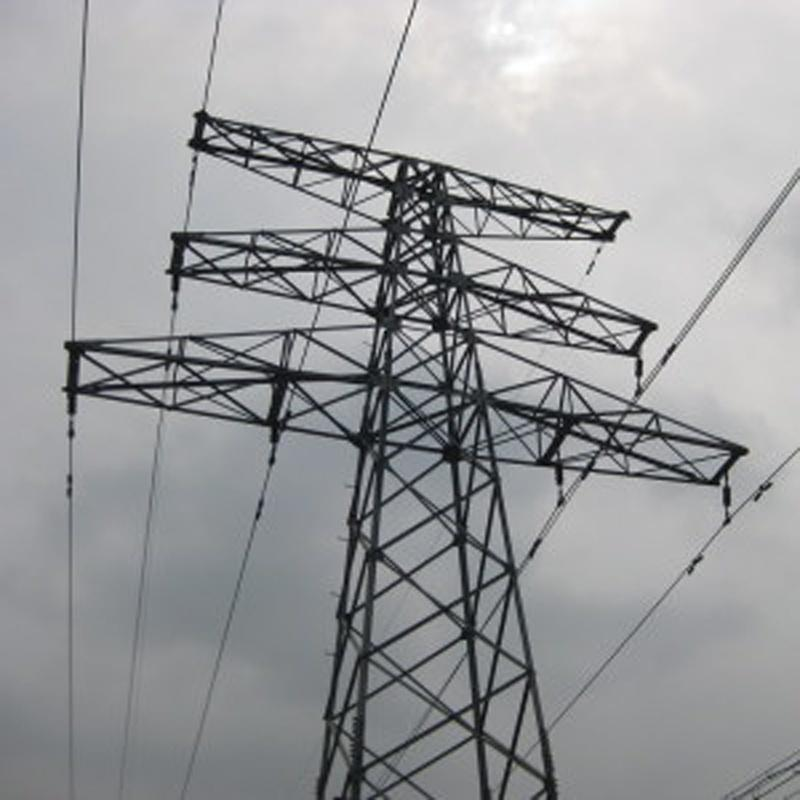power_tower: (210, 129, 644, 772)
